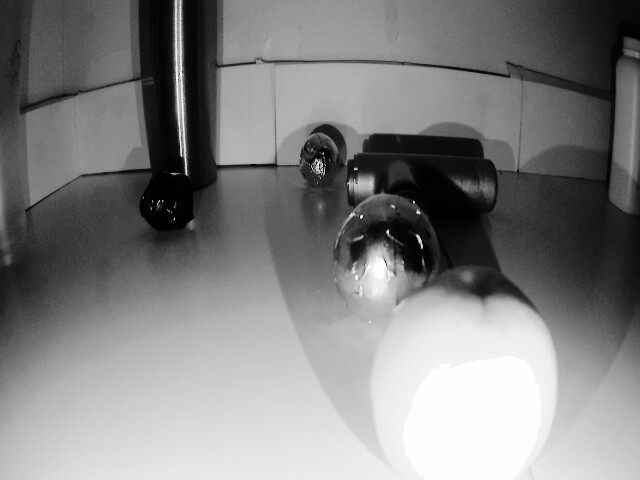black: (137, 174, 192, 228)
silver: (336, 197, 438, 320), (297, 137, 340, 183)
